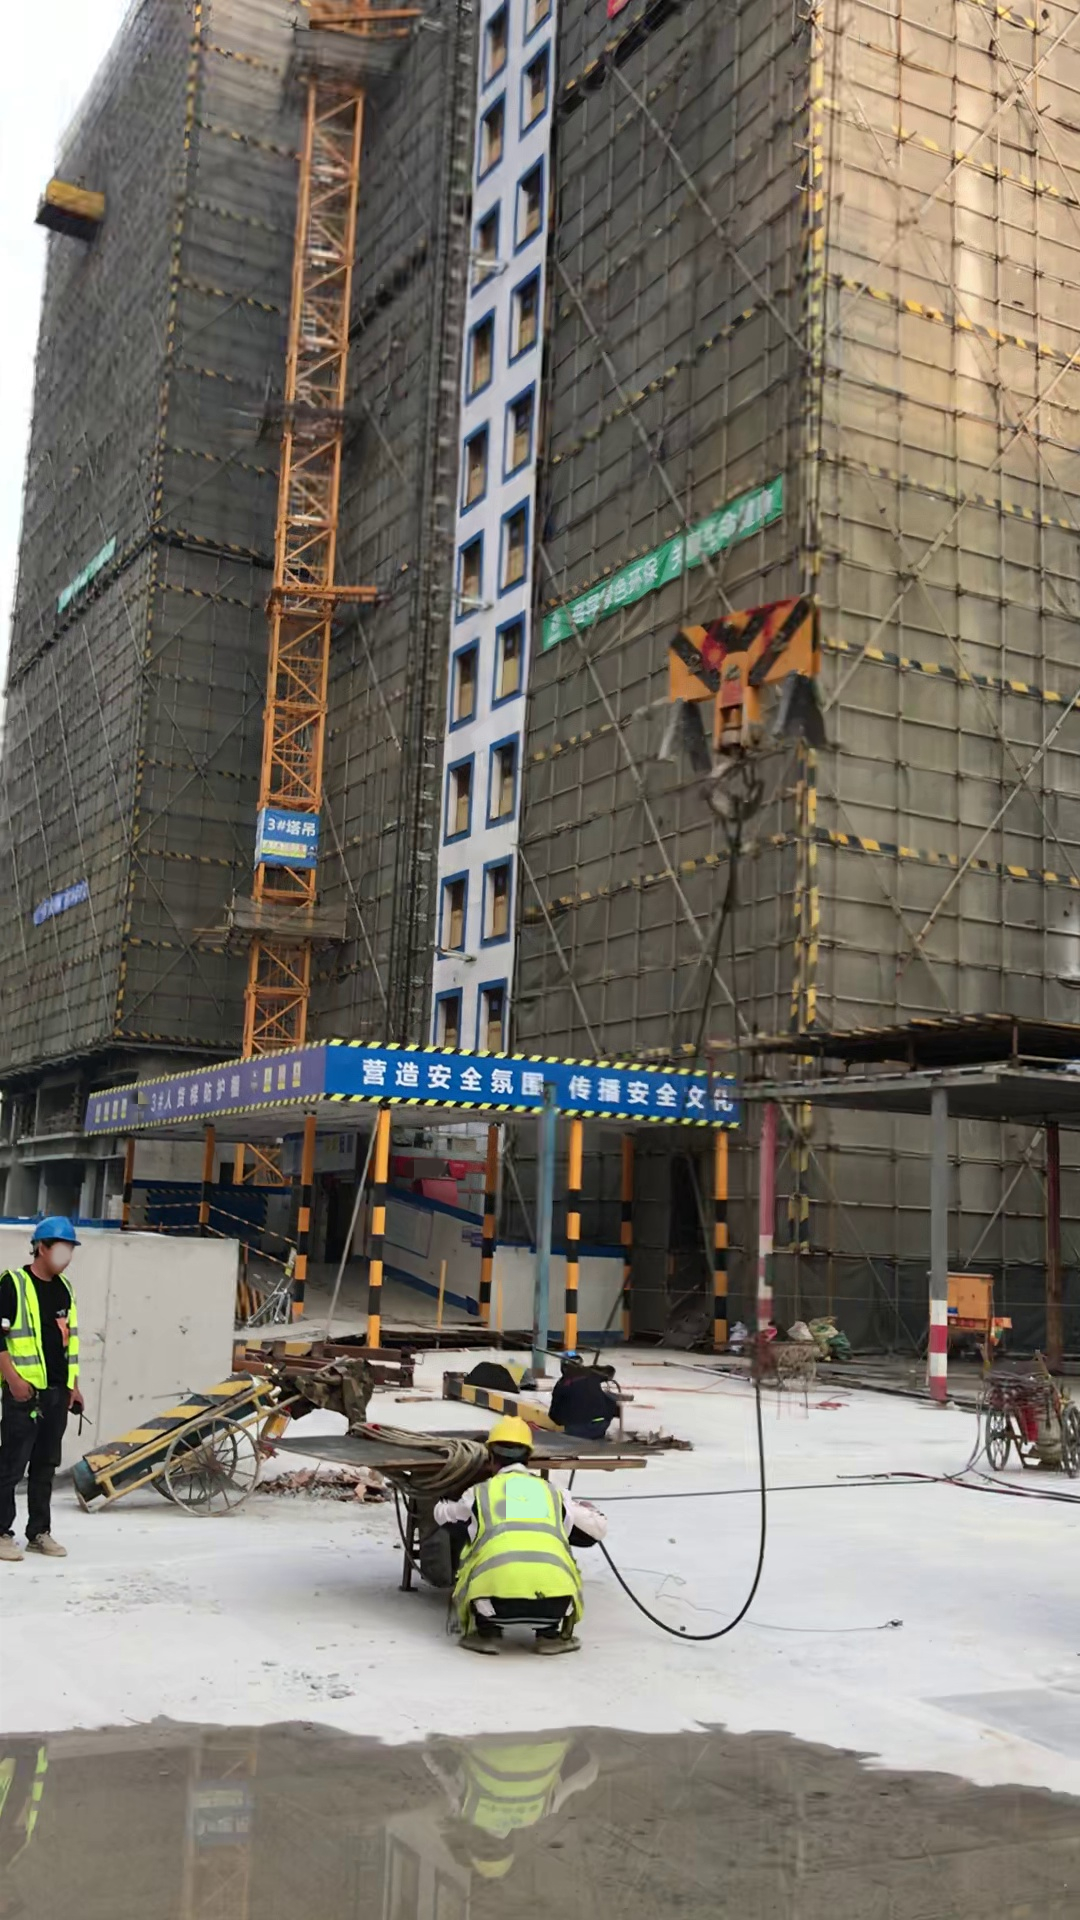board: (255, 1424, 667, 1489)
ebox: (926, 1265, 1004, 1338)
fence: (124, 1202, 303, 1277)
handcart: (73, 1365, 286, 1531), (978, 1347, 1078, 1478), (714, 1321, 836, 1403)
helmet: (482, 1411, 546, 1453), (23, 1207, 86, 1248)
hook: (615, 565, 911, 879)
person: (430, 1411, 622, 1673), (3, 1202, 115, 1569)
slogan: (323, 1037, 757, 1150), (538, 479, 823, 650), (65, 1048, 336, 1141), (44, 533, 125, 618), (242, 814, 329, 865), (23, 883, 95, 926)
vest: (455, 1473, 590, 1625), (5, 1252, 88, 1411)
